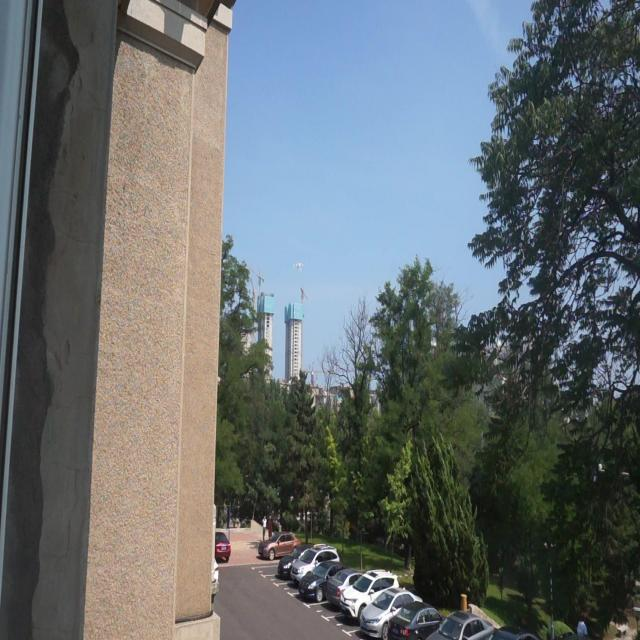UAV: (293, 262, 304, 272)
